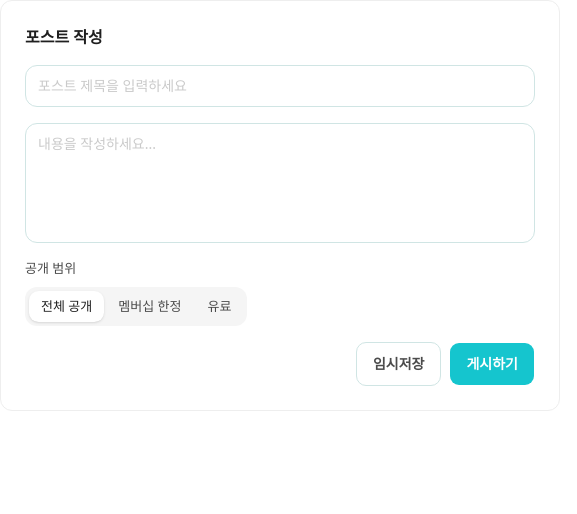
Test: PostCreateForm (FR-012, FR-013) › PUBLIC 선택 시 priceKrw 입력 필드가 없다
The width and height of the screenshot is (577, 514).
Click the button "유료".
click(219, 306)  # box [195,290,243,322]
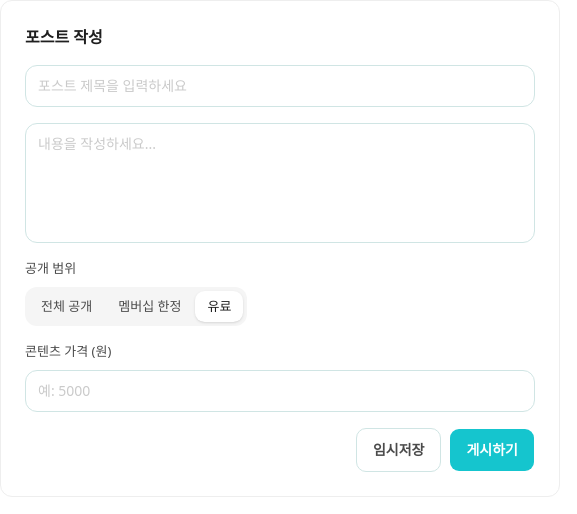
Click the button "전체 공개".
click(67, 306)  # box [29,290,104,322]
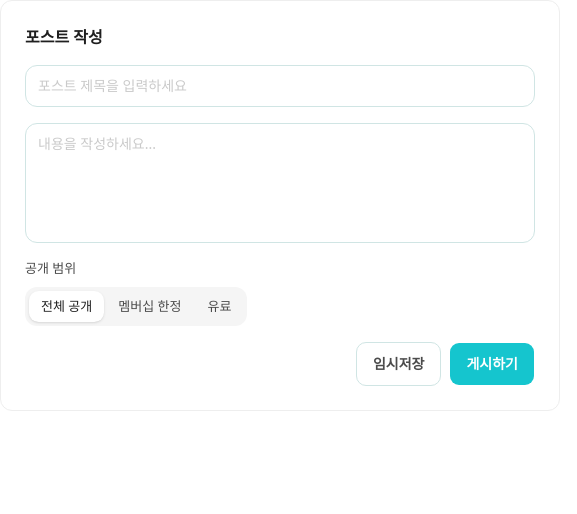
expect the label labelled "콘텐츠 가격 (원)" is gone: met
